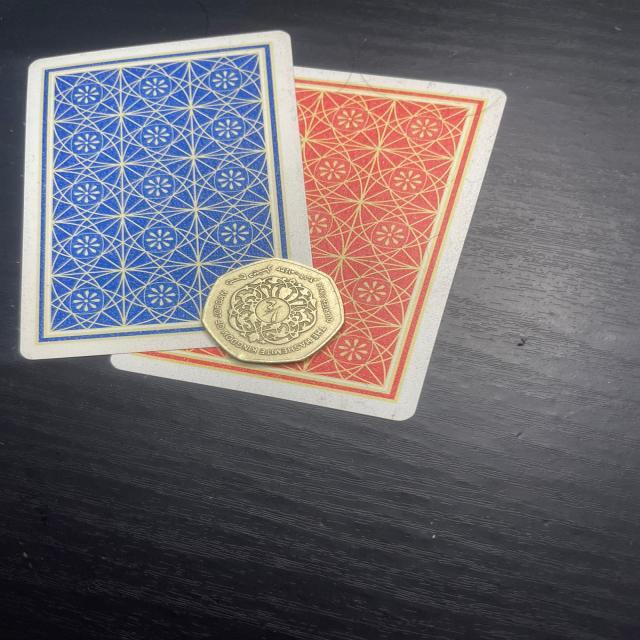25-coins: (201, 256, 348, 364)
